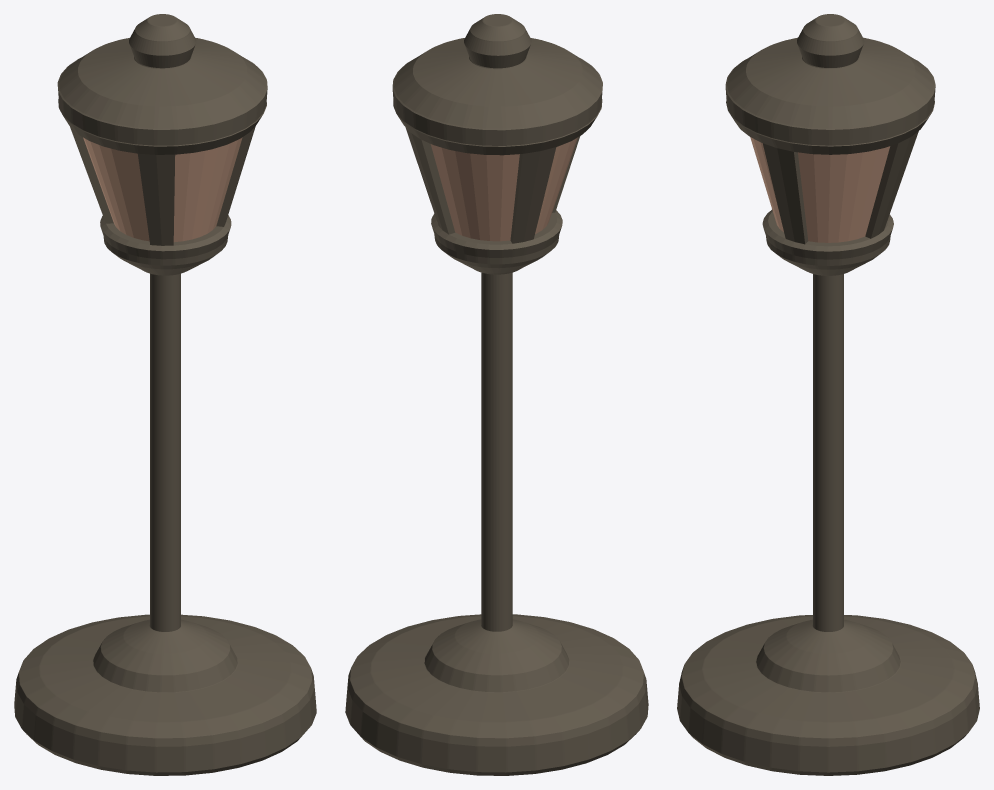
Rendered from lamp_1_garden.fbx.
3 views of the same model, side by side, from view 1: azimuth 30°, elevation 25°; view 2: azimuth 150°, elevation 25°; view 3: azimuth 270°, elevation 25° (orthographic).
Parts seen in each view (by area): view 1: lamp_1_garden; view 2: lamp_1_garden; view 3: lamp_1_garden.
Part boxes in pixels (x1,y1,x2,y2): lamp_1_garden: [14, 14, 316, 775]; lamp_1_garden: [345, 14, 648, 775]; lamp_1_garden: [677, 14, 979, 775].
Size of the model in its own units: 44.86 by 113 by 44.86.
